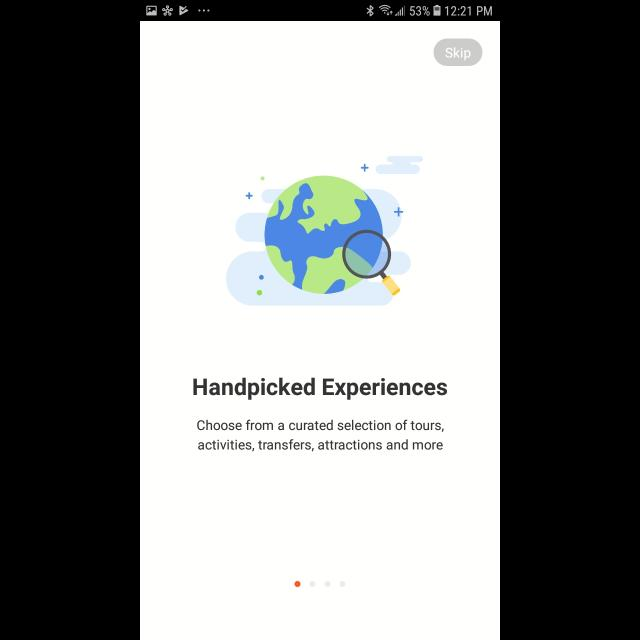image: (226, 156, 424, 306)
pageindicator: (294, 580, 346, 588)
text: (198, 420, 444, 452), (193, 378, 447, 400)
textbutton: (433, 38, 482, 66)
uppertaskbar: (140, 1, 500, 22)
